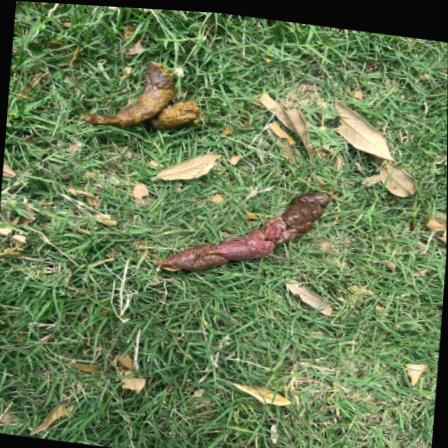dog-poop: (151, 165, 338, 293), (74, 47, 209, 143)
